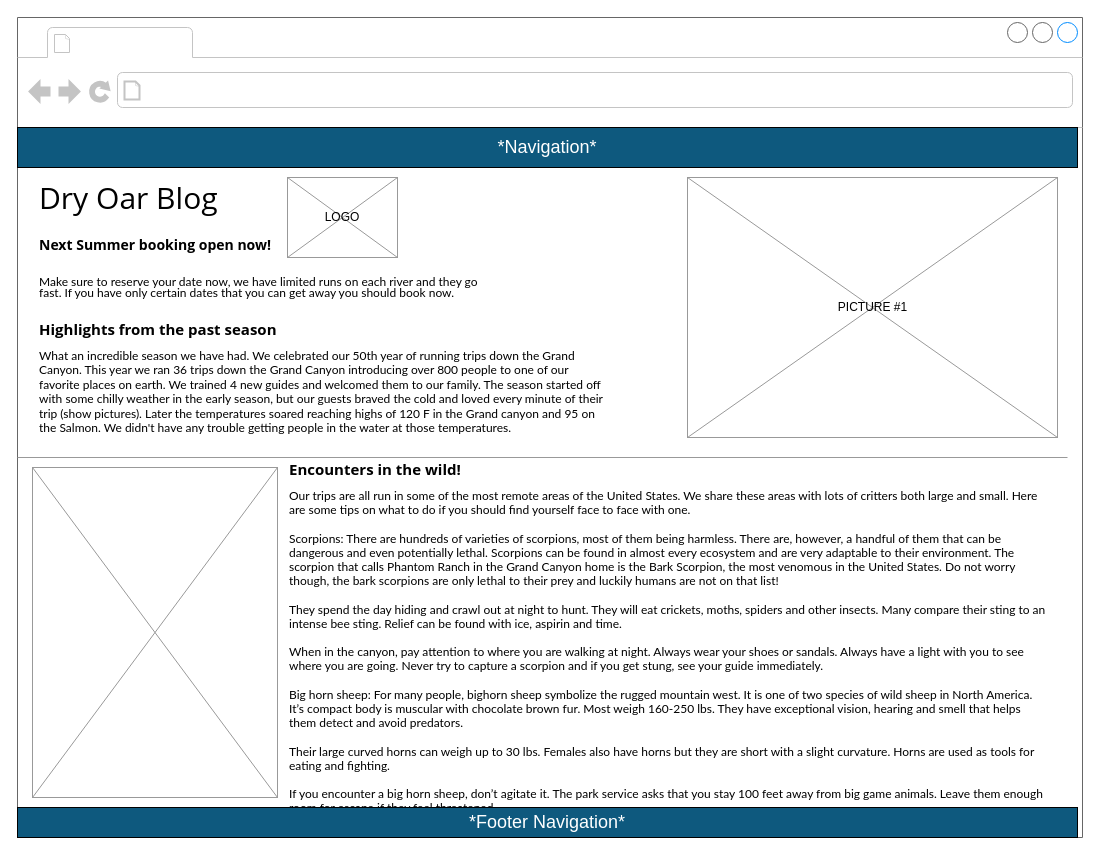
Some shapes in this 1100 by 855 pixel diagram are drawn without their labels. The centre of each missing label's shape, as x and y in pixels:
https://jaydenh1032.github.io/wdd130/wwr/index.html/page2: pixel 272 90
Page 2: pixel 132 42
PICTURE #2: pixel 155 632
